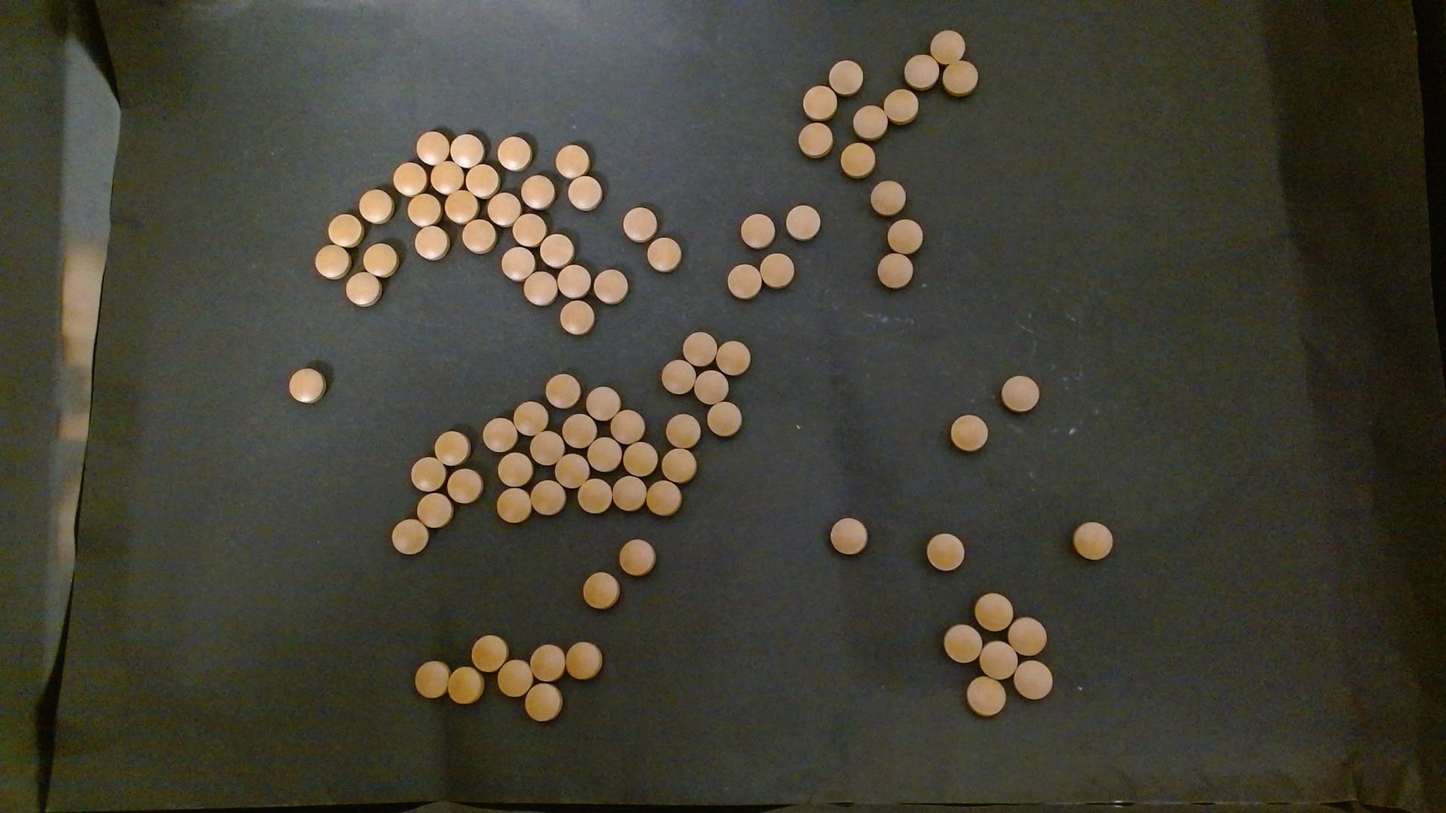Circle: (1012, 659, 1053, 699), (973, 592, 1013, 632), (966, 675, 1005, 716), (496, 658, 535, 698), (1072, 521, 1112, 559), (1008, 616, 1046, 656), (582, 571, 620, 610), (829, 517, 868, 555), (1000, 375, 1039, 413), (944, 624, 982, 663), (524, 684, 562, 723), (926, 533, 964, 571), (979, 640, 1017, 678), (618, 538, 655, 577), (529, 644, 566, 683), (413, 660, 450, 699), (470, 633, 507, 672), (288, 367, 326, 404), (950, 414, 987, 451), (391, 519, 428, 556), (565, 641, 601, 679), (448, 666, 484, 704), (886, 218, 923, 254), (646, 236, 682, 273), (611, 474, 647, 511), (434, 429, 470, 466), (314, 243, 351, 279), (545, 372, 581, 409), (358, 187, 394, 224), (496, 135, 532, 172), (585, 385, 621, 421), (530, 431, 566, 467), (345, 270, 381, 306), (802, 84, 838, 120), (416, 492, 452, 528), (869, 179, 905, 215), (413, 224, 449, 260), (529, 480, 566, 515), (877, 253, 914, 288), (496, 487, 531, 524), (500, 245, 535, 282), (943, 59, 978, 96), (660, 359, 697, 394), (449, 132, 484, 169), (646, 479, 681, 515), (682, 330, 718, 365), (593, 269, 628, 305), (760, 252, 795, 288), (362, 242, 398, 277), (661, 448, 697, 483), (740, 213, 775, 249), (798, 122, 833, 158), (567, 175, 602, 211), (715, 340, 751, 375), (693, 369, 729, 404), (554, 143, 590, 178), (481, 417, 517, 452), (563, 414, 599, 449), (520, 173, 555, 209), (392, 161, 427, 197), (511, 212, 547, 247), (560, 299, 594, 336), (328, 212, 363, 247), (410, 457, 445, 492), (587, 437, 622, 472), (555, 453, 590, 488), (539, 233, 574, 268), (883, 88, 918, 123), (430, 160, 465, 195), (727, 263, 761, 299), (840, 142, 874, 178), (623, 206, 657, 242), (828, 59, 862, 95), (416, 130, 450, 166), (447, 468, 481, 503), (706, 402, 740, 437), (523, 271, 557, 306), (785, 204, 819, 239), (497, 452, 532, 486), (462, 218, 496, 253), (407, 192, 441, 227), (930, 29, 965, 63), (557, 263, 590, 299), (666, 413, 700, 447), (577, 479, 611, 513), (625, 442, 657, 478), (853, 105, 886, 139), (611, 410, 645, 443), (487, 192, 520, 226), (446, 187, 477, 223), (466, 163, 499, 196), (514, 400, 545, 434), (904, 55, 935, 86)
